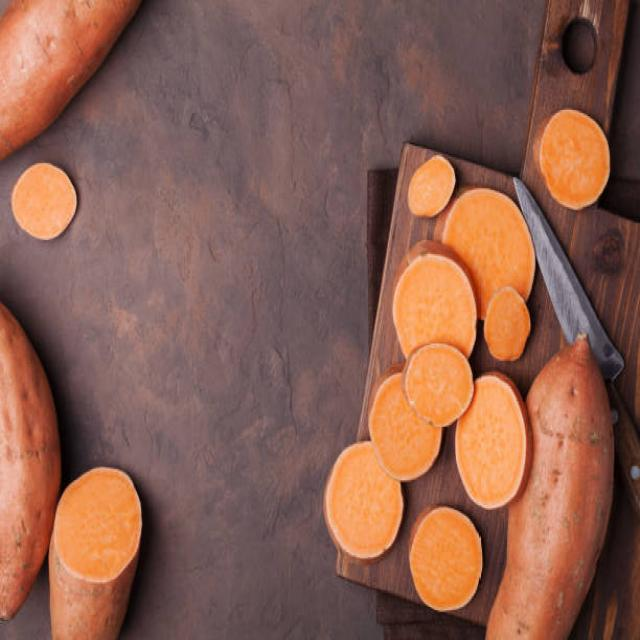sweet potato: (531, 334, 614, 632), (0, 0, 122, 150), (48, 464, 147, 640), (0, 292, 49, 630), (319, 440, 401, 563), (392, 236, 478, 342), (406, 501, 486, 611), (532, 105, 610, 209), (401, 340, 475, 429), (9, 155, 81, 245)
